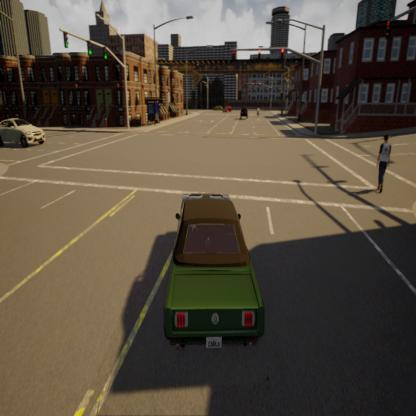Cars: (153, 185, 271, 359), (0, 113, 52, 153), (238, 104, 250, 121), (223, 101, 234, 115)
Pedestrian: (372, 130, 395, 198)
